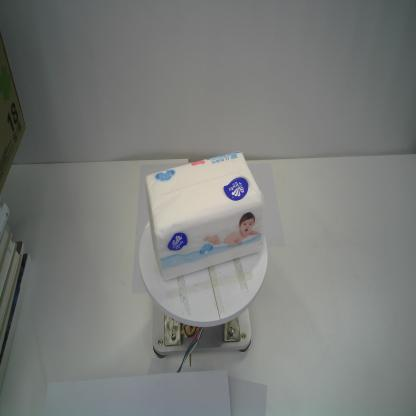Tissue: (144, 150, 264, 282)
